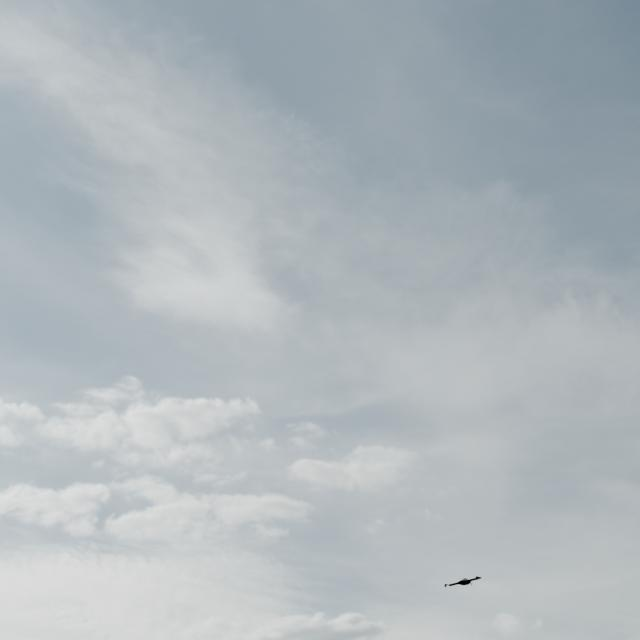Airaplan: (444, 576, 481, 588)
